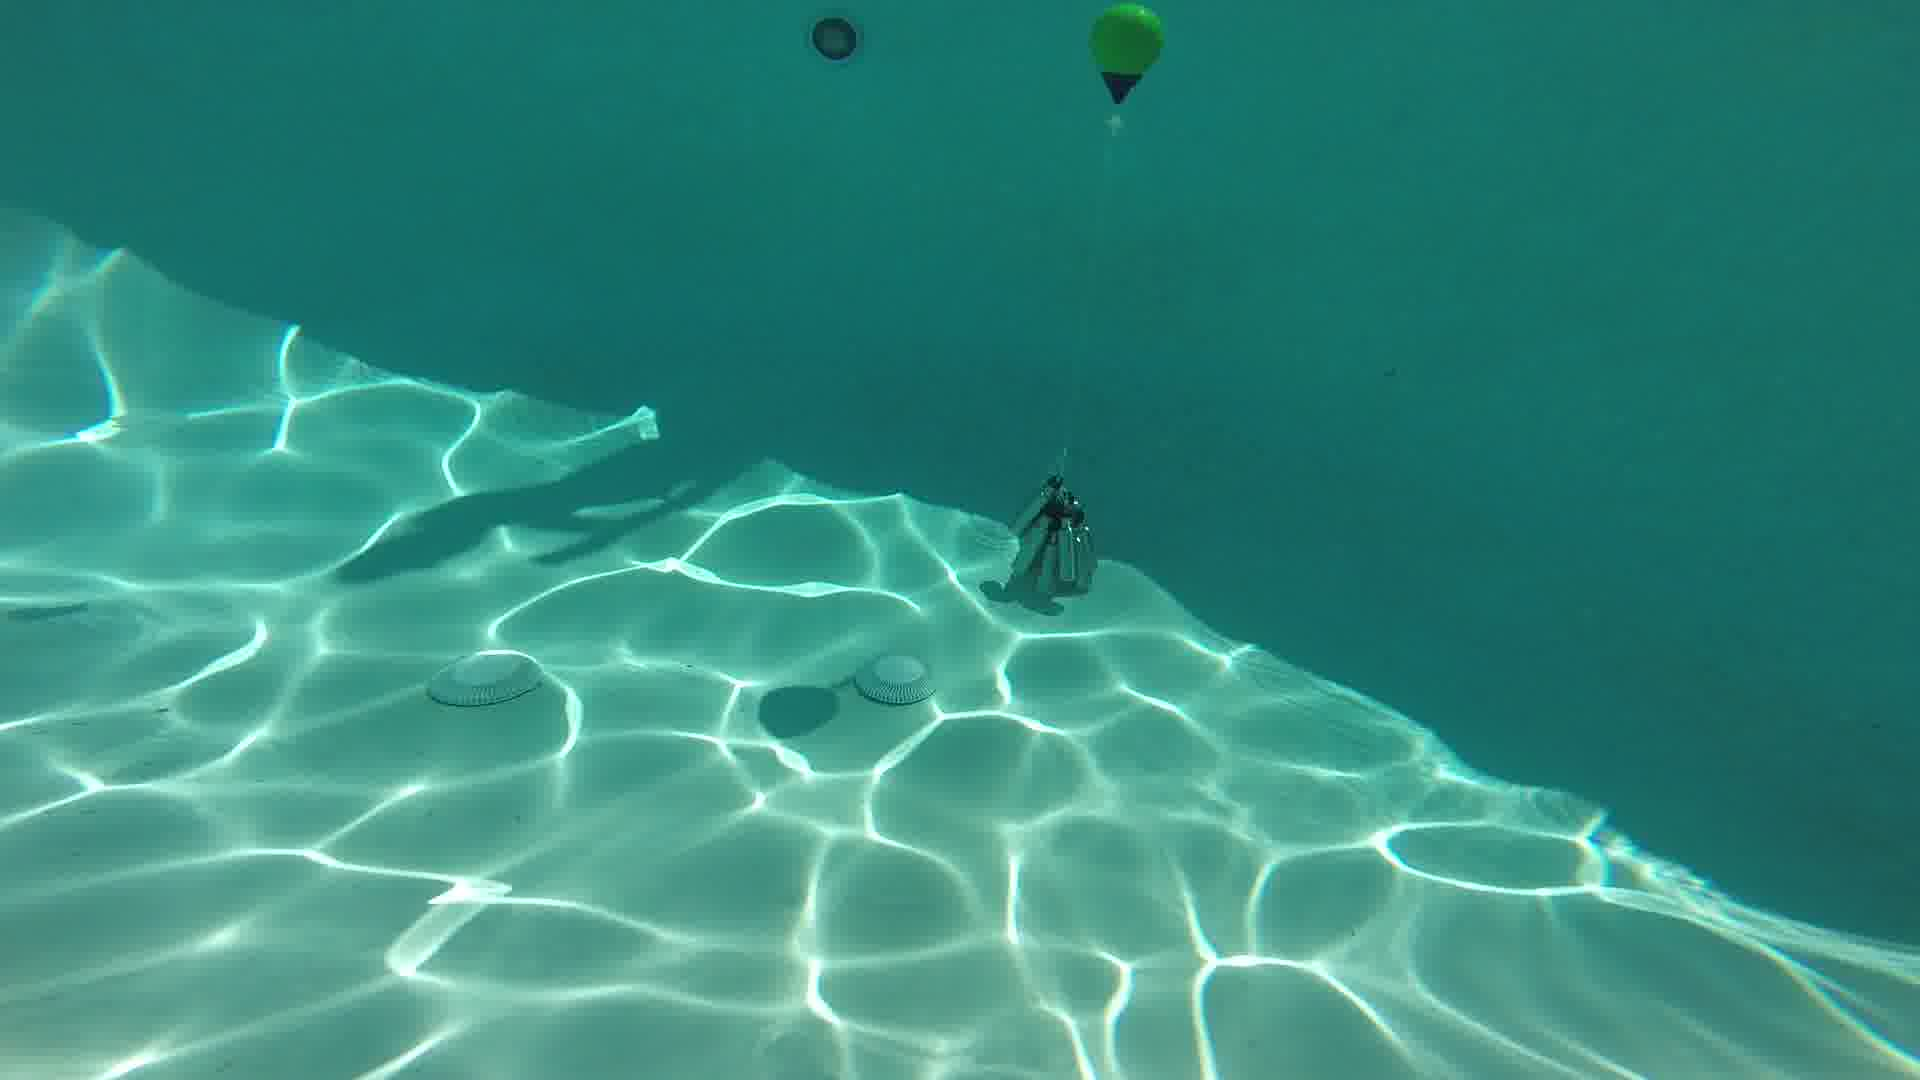yellow_buoy: (1091, 5, 1163, 137)
